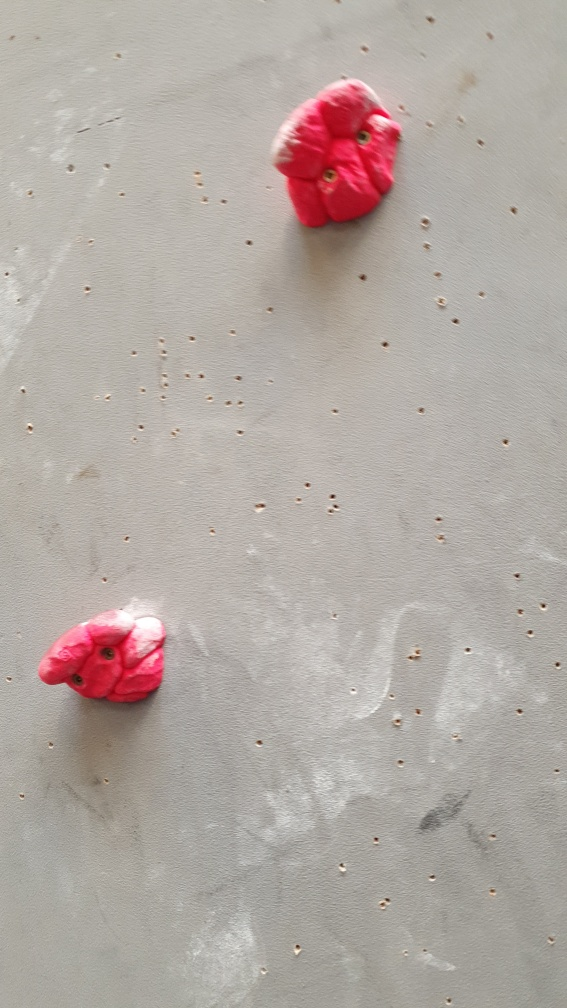Jug: (269, 75, 400, 234), (36, 606, 167, 704)
